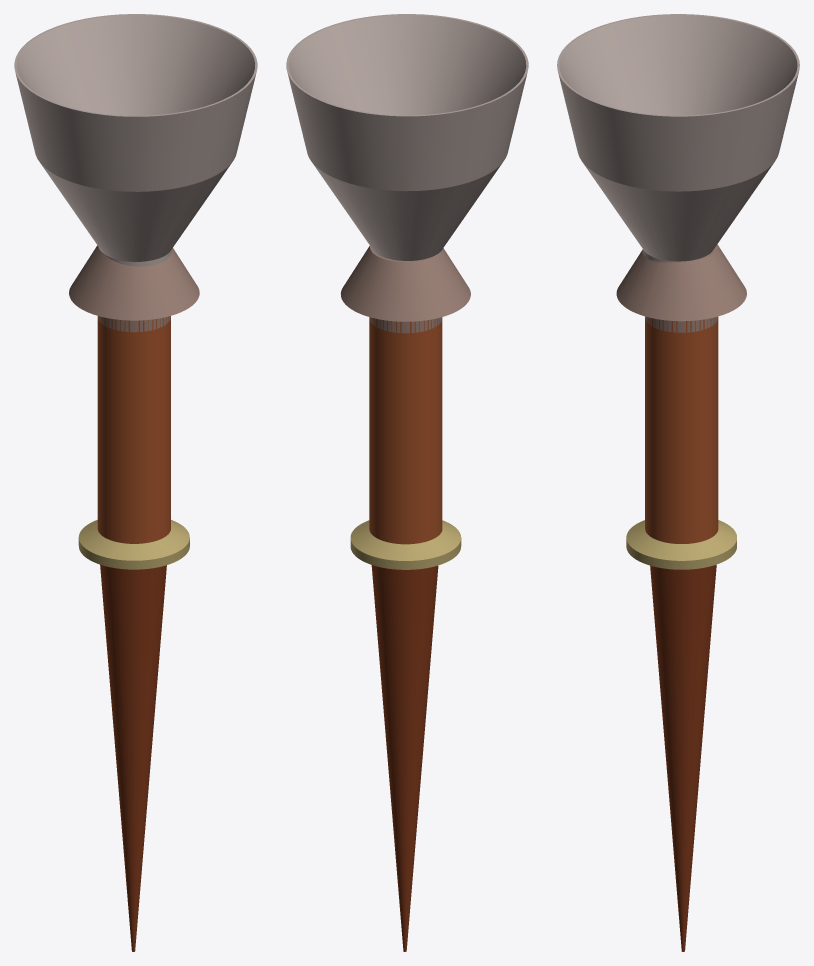
3 views of the same model, side by side, from view 1: azimuth 30°, elevation 25°; view 2: azimuth 150°, elevation 25°; view 3: azimuth 270°, elevation 25° (orthographic).
Parts seen in each view (by area): view 1: cup, shaft, spike, collar, ring; view 2: cup, shaft, spike, collar, ring; view 3: cup, shaft, spike, collar, ring.
Boxes of the visible parts, x1,y1,x2,y2 form: cup: (14,14,257,266); shaft: (97,316,170,543); spike: (100,564,166,951); collar: (69,245,199,332); ring: (78,520,189,569); cup: (286,14,528,260); shaft: (369,317,442,544); spike: (371,565,438,951); collar: (340,246,470,333); ring: (350,520,461,569); cup: (557,14,799,262); shaft: (645,317,718,543); spike: (650,564,716,951); collar: (616,244,746,332); ring: (626,520,736,569).
Bounding box in the file's own units: 0.149 × 0.5995 × 0.149.
